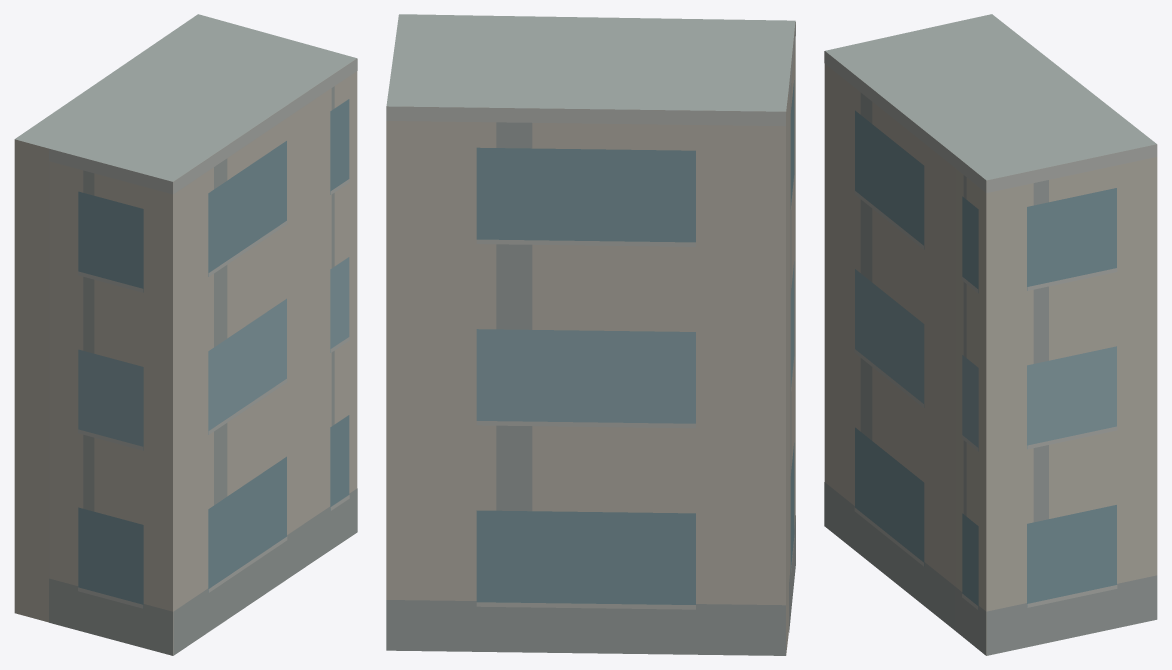
The model's file is survey-upis-32775079.glb.
3 views of the same model, side by side, from view 1: azimuth 30°, elevation 25°; view 2: azimuth 150°, elevation 25°; view 3: azimuth 270°, elevation 25° (orthographic). The views are drawn at different scales.
Parts seen in each view (by area): view 1: survey-upis-32775079.tmp; view 2: survey-upis-32775079.tmp; view 3: survey-upis-32775079.tmp.
Part boxes in pixels (x1,y1,x2,y2): survey-upis-32775079.tmp: (14, 14, 357, 655); survey-upis-32775079.tmp: (386, 14, 795, 655); survey-upis-32775079.tmp: (824, 14, 1157, 655).
Size of the model in its own units: 6.88 by 9.15 by 5.81.
